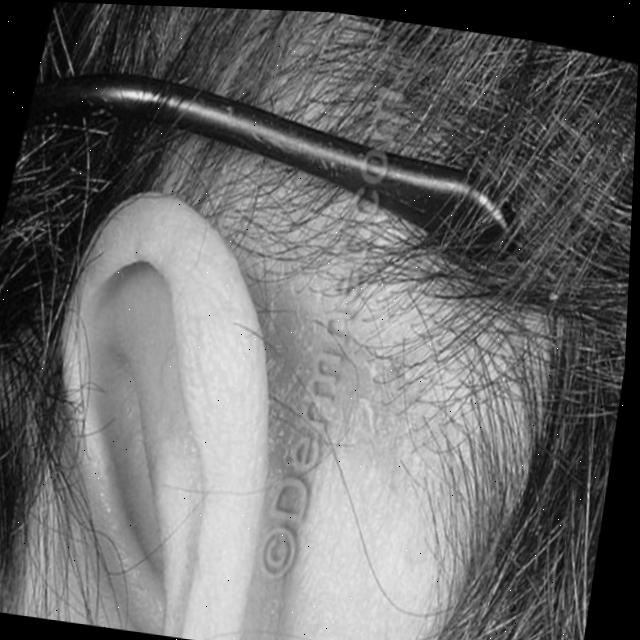Eczema: (244, 277, 427, 467)
